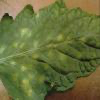Tomato mold leaf: (0, 1, 99, 99)
